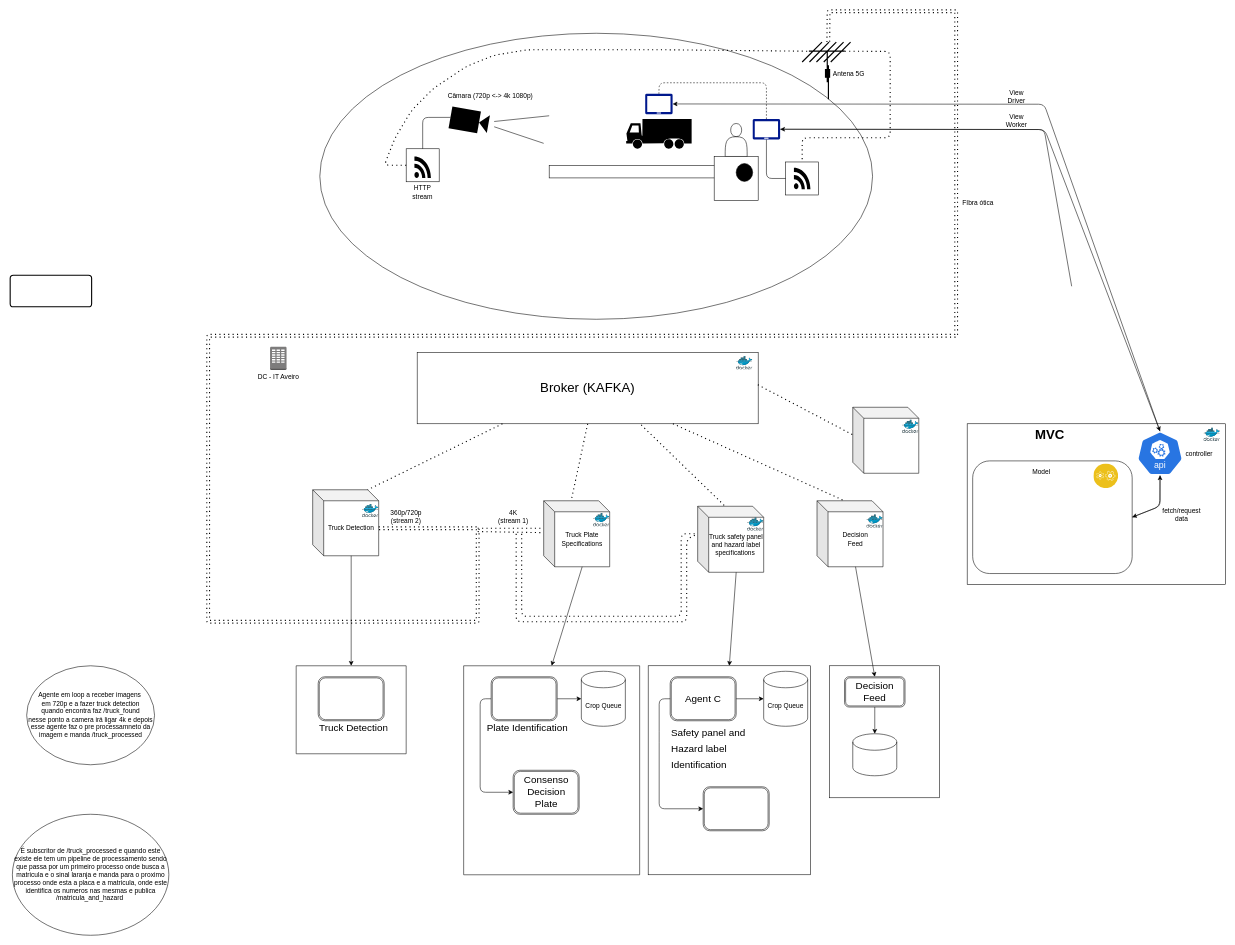
The diagram is 1235 pixels wide and 945 high, and some of its shapes have lost their labels. The shapes that lost their labels are listed below. From the top down, each one's box as (x1, y1, x2, y2) in pixels, then its label:
(549, 165, 720, 178): Cancela do porto
(852, 407, 919, 473): Decison API
(1093, 463, 1118, 488): Business Logic
(318, 676, 384, 721): Agent A
(491, 676, 557, 721): Agent B
(852, 733, 897, 776): Database Trucks Authorized
(703, 786, 769, 831): Consenso Decision Placard
